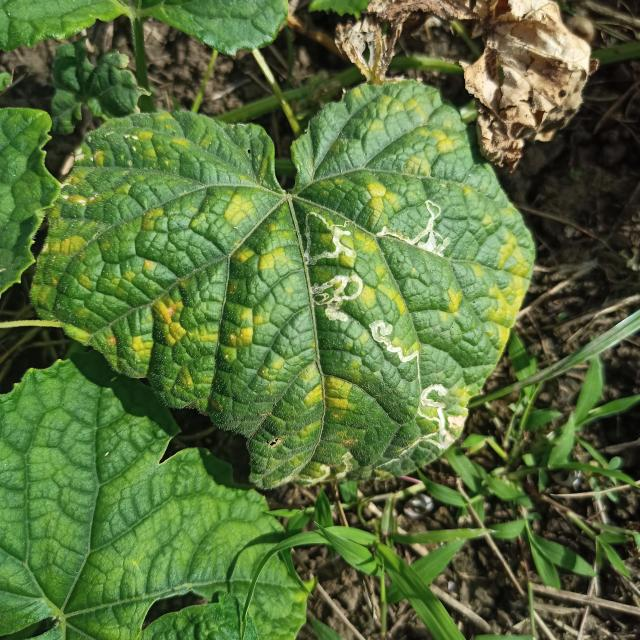disease_cucumber: (46, 84, 531, 475)
